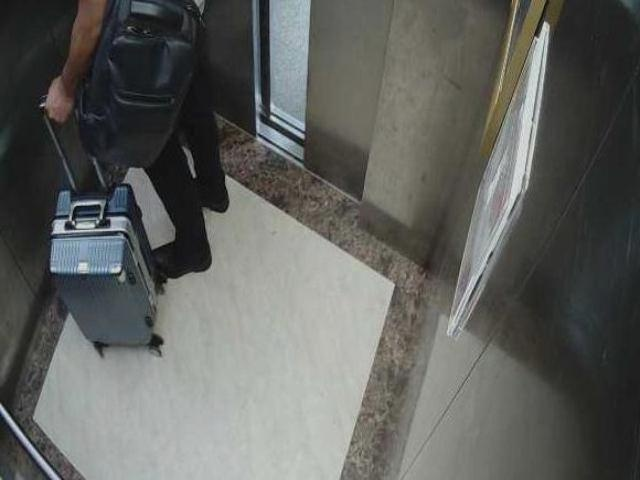bag: (83, 1, 206, 165)
box: (23, 178, 182, 380)
